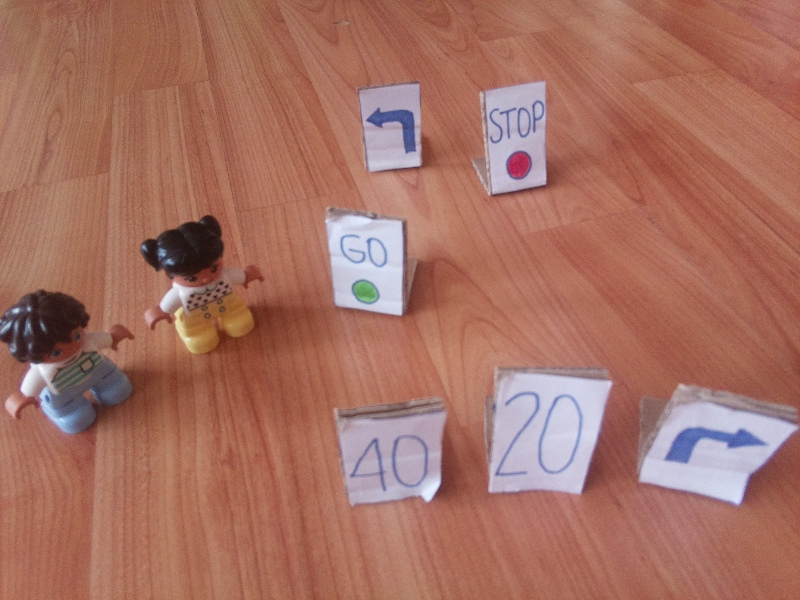20: (499, 389, 583, 486)
40: (348, 431, 435, 496)
go: (334, 231, 394, 309)
person: (1, 286, 135, 438), (136, 218, 266, 346)
stop: (490, 97, 545, 179)
turn left: (365, 100, 420, 158)
turn right: (667, 411, 765, 481)
